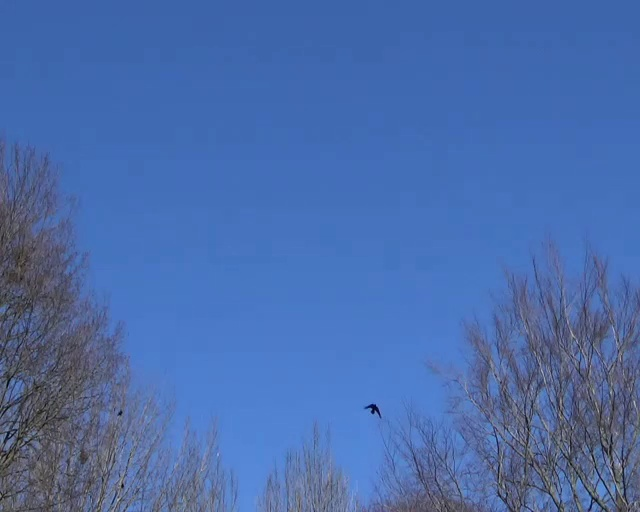BIRD: (363, 404, 381, 418)
